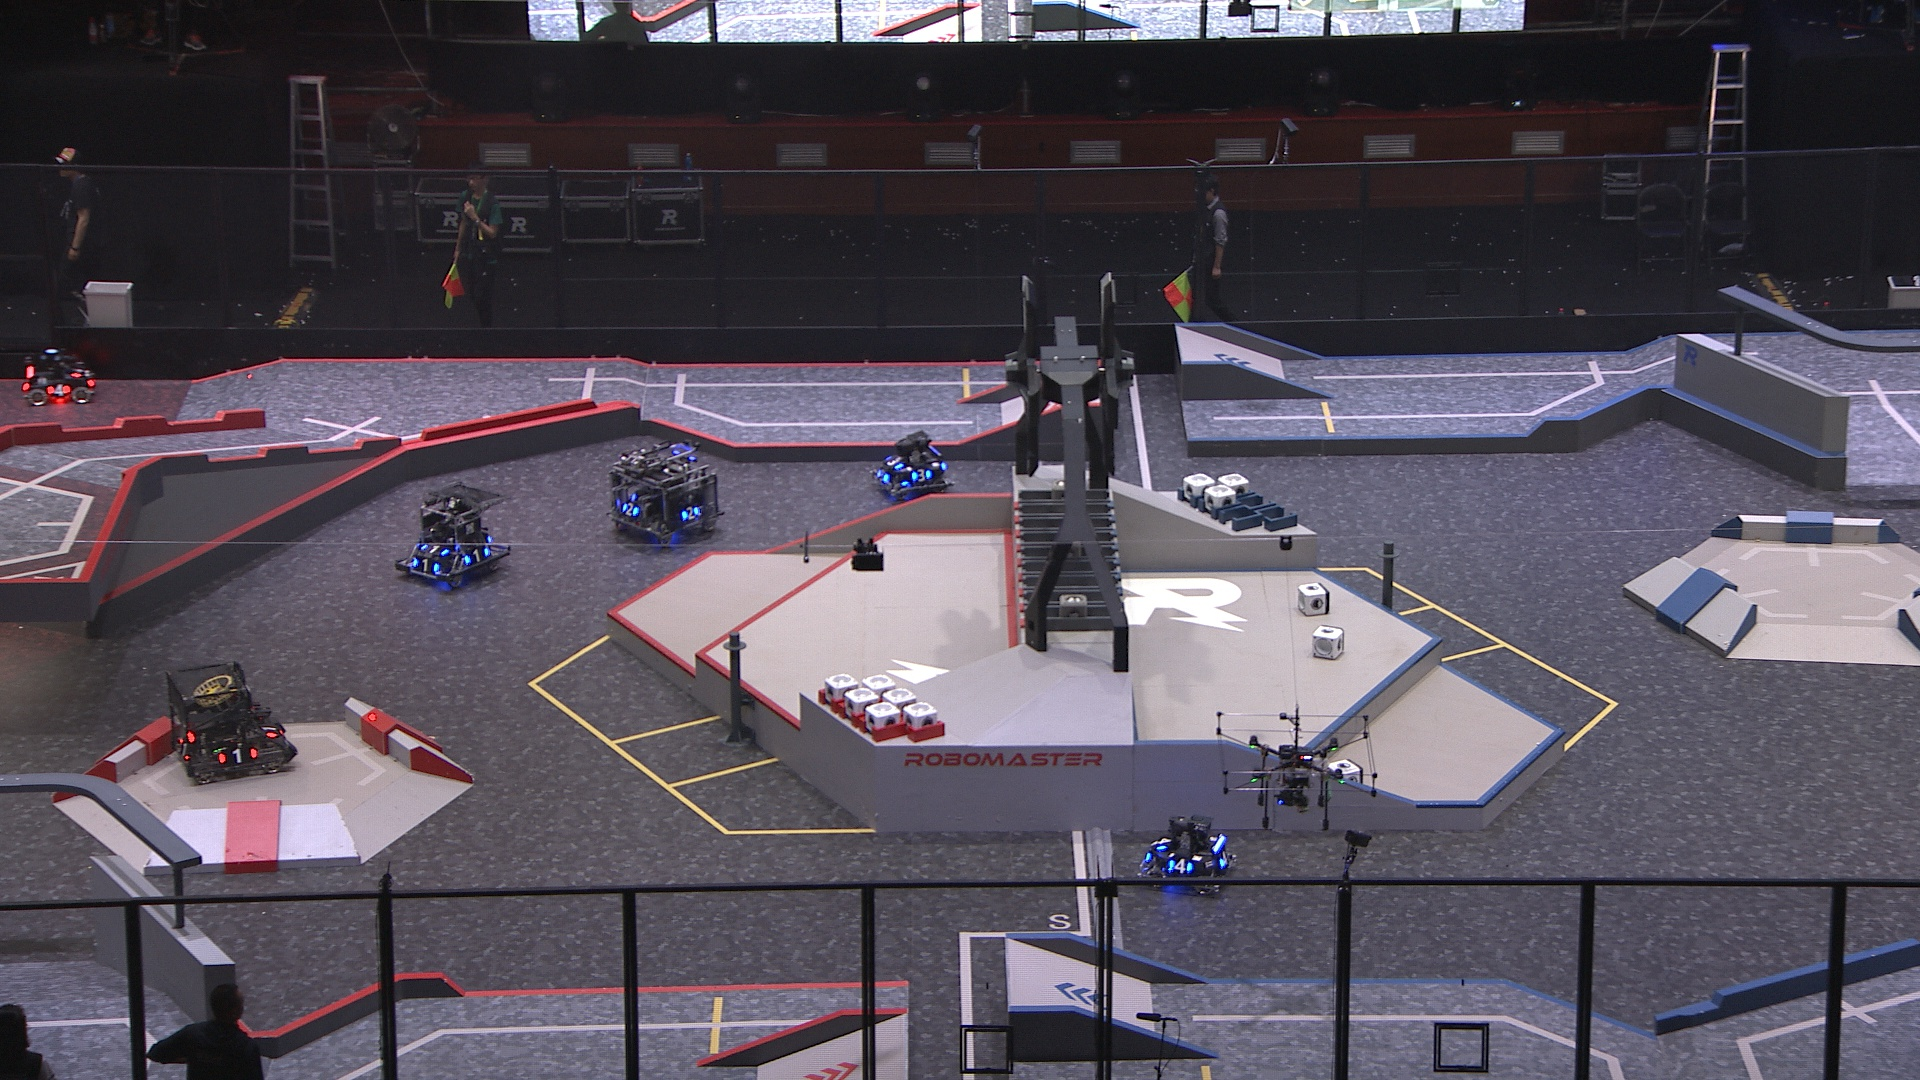armor: (218, 746, 258, 765), (417, 541, 448, 556), (413, 559, 439, 578), (463, 547, 491, 564), (882, 455, 906, 475), (258, 717, 278, 740), (44, 382, 71, 398), (1168, 858, 1191, 876), (178, 738, 193, 764), (618, 501, 637, 518), (1156, 835, 1171, 855), (910, 469, 931, 483), (680, 506, 699, 520), (71, 363, 84, 381), (1220, 851, 1232, 870)
car: (166, 659, 295, 783), (608, 442, 723, 556), (396, 483, 512, 588), (1139, 816, 1233, 893), (869, 433, 956, 505), (18, 347, 100, 409)
